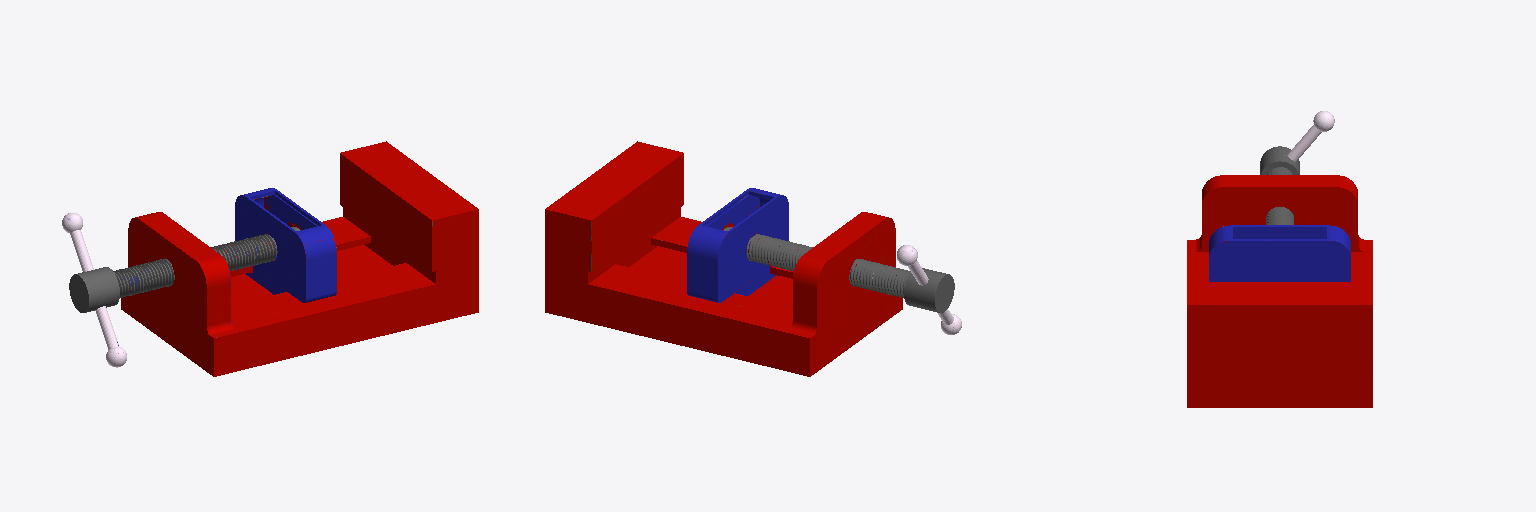
3 renders of one model, left to right at view 1: azimuth 30°, elevation 25°; view 2: azimuth 150°, elevation 25°; view 3: azimuth 270°, elevation 25°, orthographic.
Visible parts, largest first — view 1: Benchvise; view 2: Benchvise; view 3: Benchvise.
Boxes of the visible parts, x1,y1,x2,y2 form: Benchvise: [62, 141, 478, 376]; Benchvise: [545, 141, 961, 376]; Benchvise: [1187, 111, 1372, 407].
Bounding box in the file's own units: 287 × 102 × 130.
Materials: 1 (1 with a texture image).